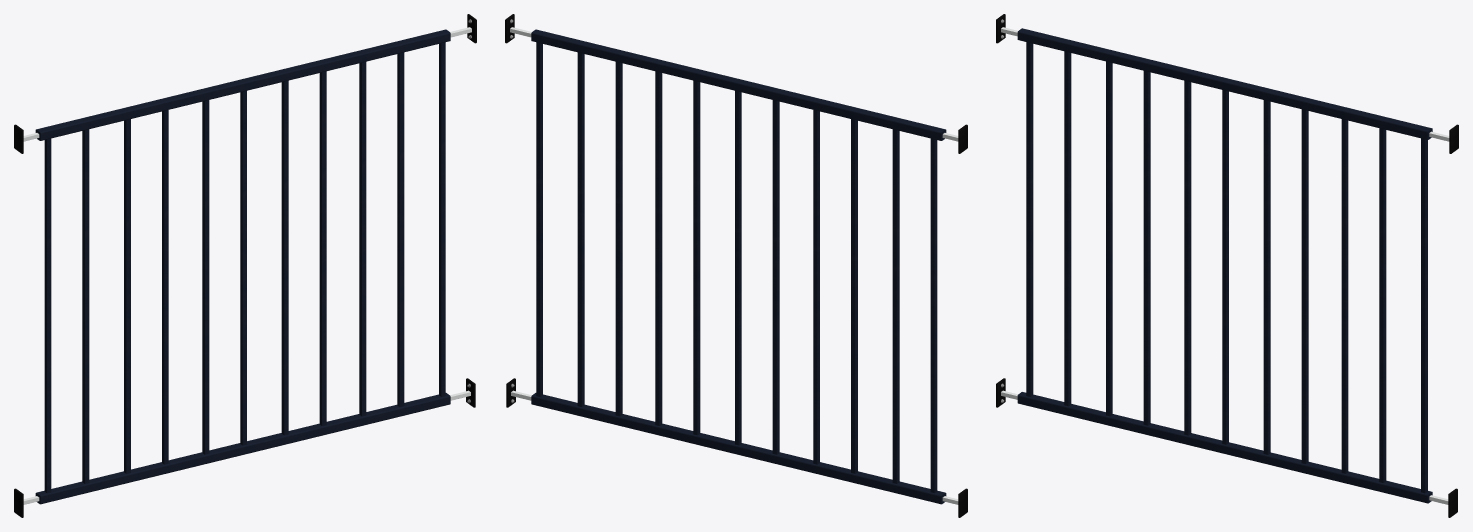
File: child_gate_textured.fbx
3 views of the same model, side by side, from view 1: azimuth 30°, elevation 25°; view 2: azimuth 150°, elevation 25°; view 3: azimuth 330°, elevation 25° (orthographic).
Parts seen in each view (by area): view 1: Child_Gate; view 2: Child_Gate; view 3: Child_Gate.
Boxes of the visible parts, <box> form: Child_Gate: <box>14,14,476,517</box>; Child_Gate: <box>505,14,967,517</box>; Child_Gate: <box>996,14,1458,517</box>.
Bounding box in the file's own units: 620 × 18.86 × 505.
1 material, 1 textured.
